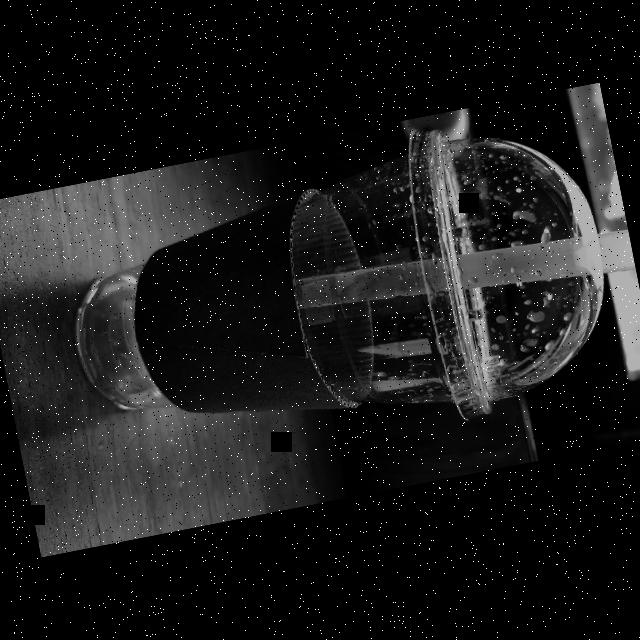plastic_cup: (42, 96, 634, 497)
plastic_cup_lid: (391, 92, 633, 428)
straw: (292, 232, 629, 311)
